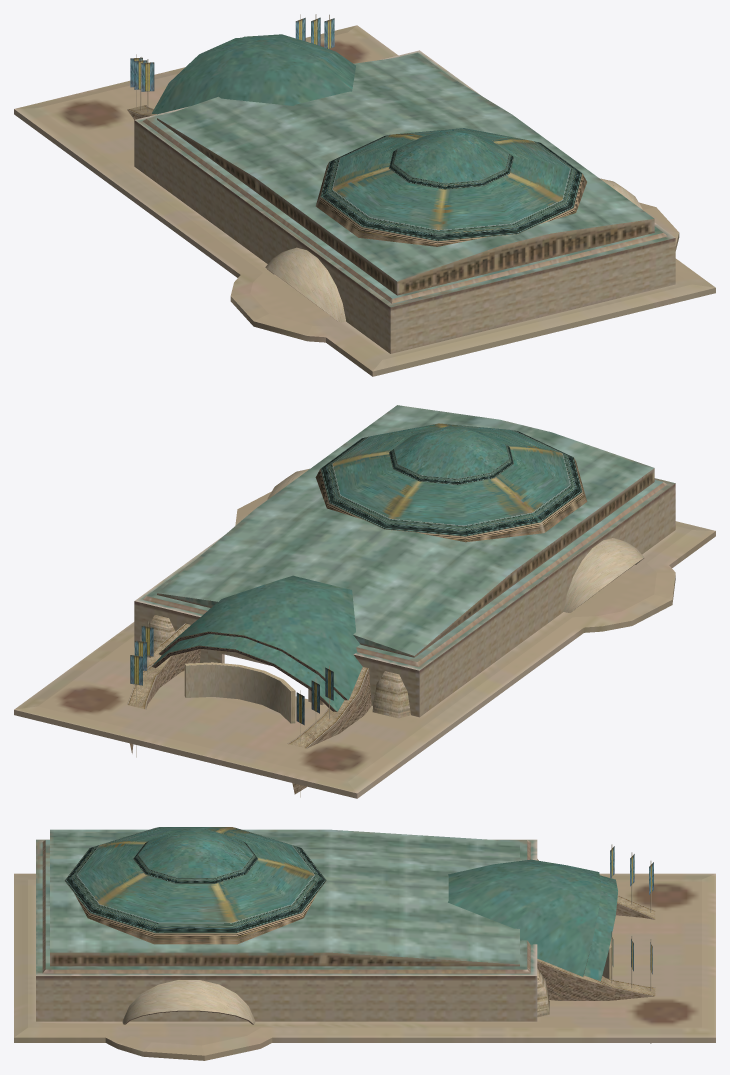
The model's file is mun_nboo_guild_theater_s01_r0_mesh_l2.fbx.
3 views of the same model, one above another, from view 1: azimuth 30°, elevation 25°; view 2: azimuth 150°, elevation 25°; view 3: azimuth 270°, elevation 25° (orthographic). The views are drawn at different scales.
Parts seen in each view (by area): view 1: mesh_node; view 2: mesh_node; view 3: mesh_node.
Boxes of the visible parts, x1,y1,x2,y2 form: mesh_node: (14,14,715,376); mesh_node: (14,405,715,798); mesh_node: (14,827,715,1060).
Bounding box in the file's own units: 81.75 × 32.27 × 121.
